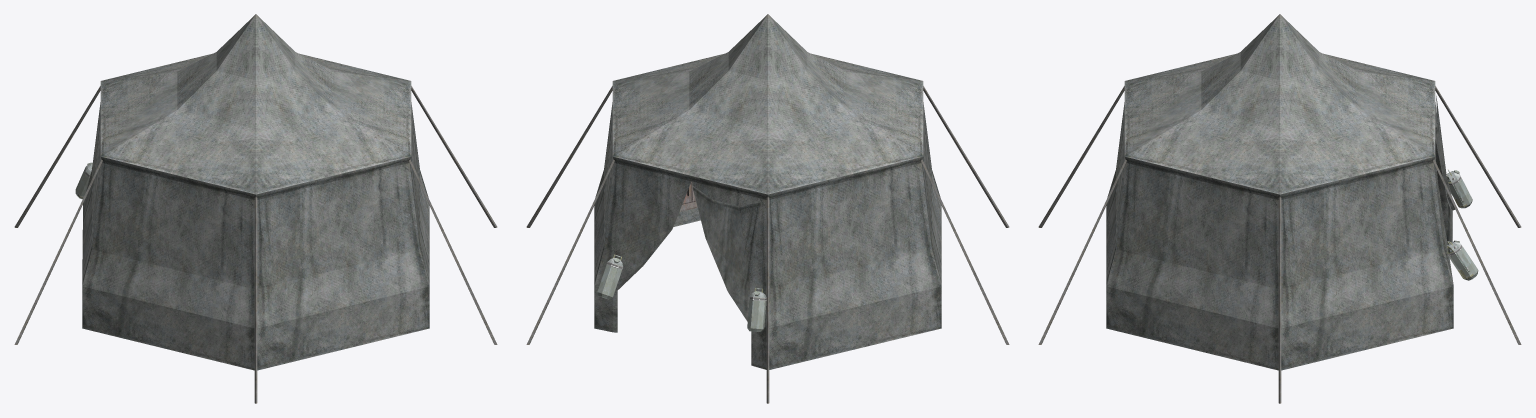
The model's file is poi_all_tent_hut_s01_l0.fbx.
3 renders of one model, left to right at view 1: azimuth 30°, elevation 25°; view 2: azimuth 150°, elevation 25°; view 3: azimuth 270°, elevation 25°, orthographic.
Visible parts, largest first — view 1: mesh_node; view 2: mesh_node; view 3: mesh_node.
Part boxes in pixels (box(x1,y1,x2,y2)): mesh_node: box(14, 14, 497, 403); mesh_node: box(526, 14, 1009, 403); mesh_node: box(1038, 14, 1521, 403).
Size of the model in its own units: 11.99 by 6.45 by 10.38.
